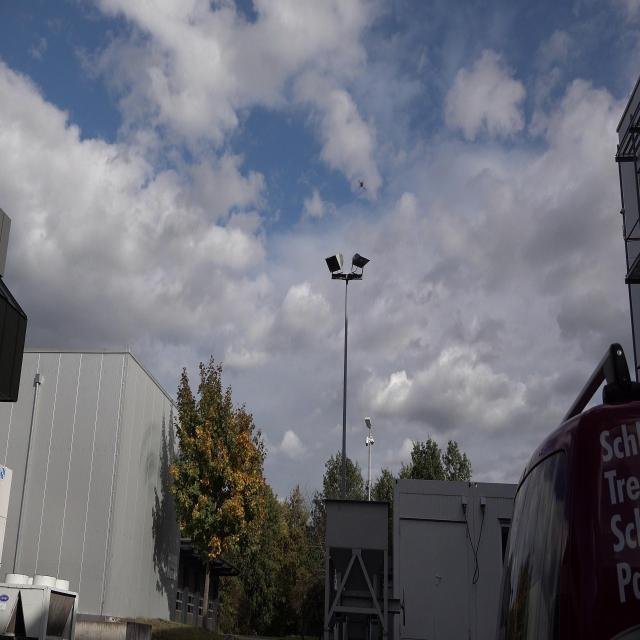drone: (356, 174, 371, 194)
